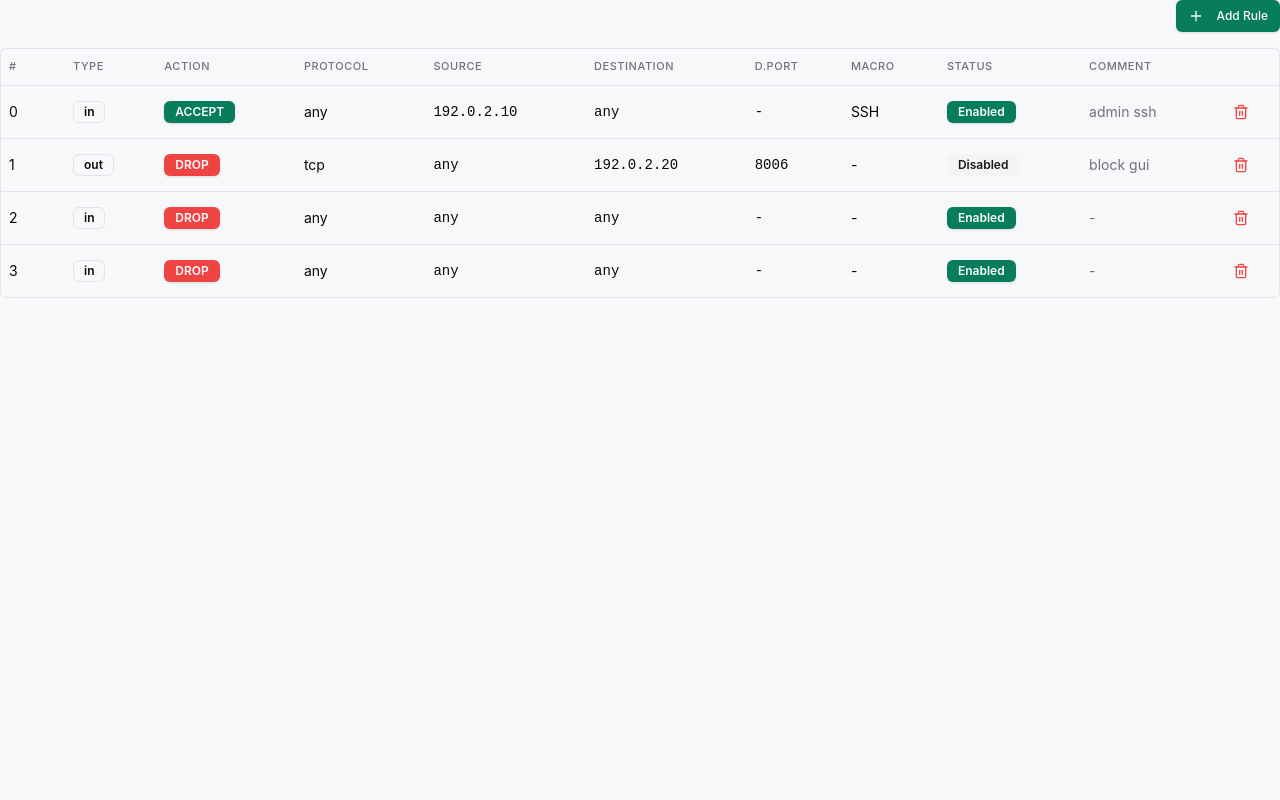
Test: FirewallRulesTable — deleting a rule › Cancel sends nothing
The width and height of the screenshot is (1280, 800).
Click the button named "Delete rule 1" at {"x": 1241, "y": 164}, box [1223,146,1259,182]
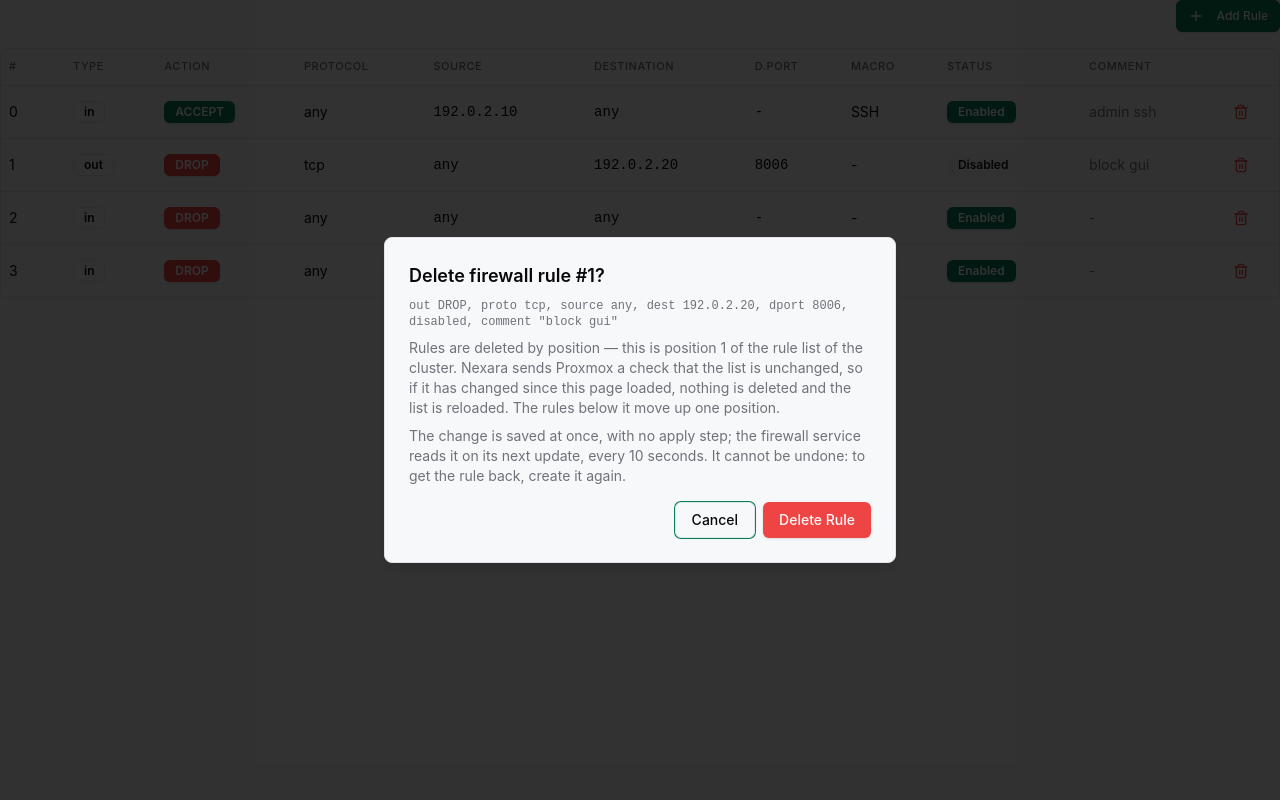
Click the button "Cancel" at {"x": 715, "y": 520}, box [675,502,755,538]
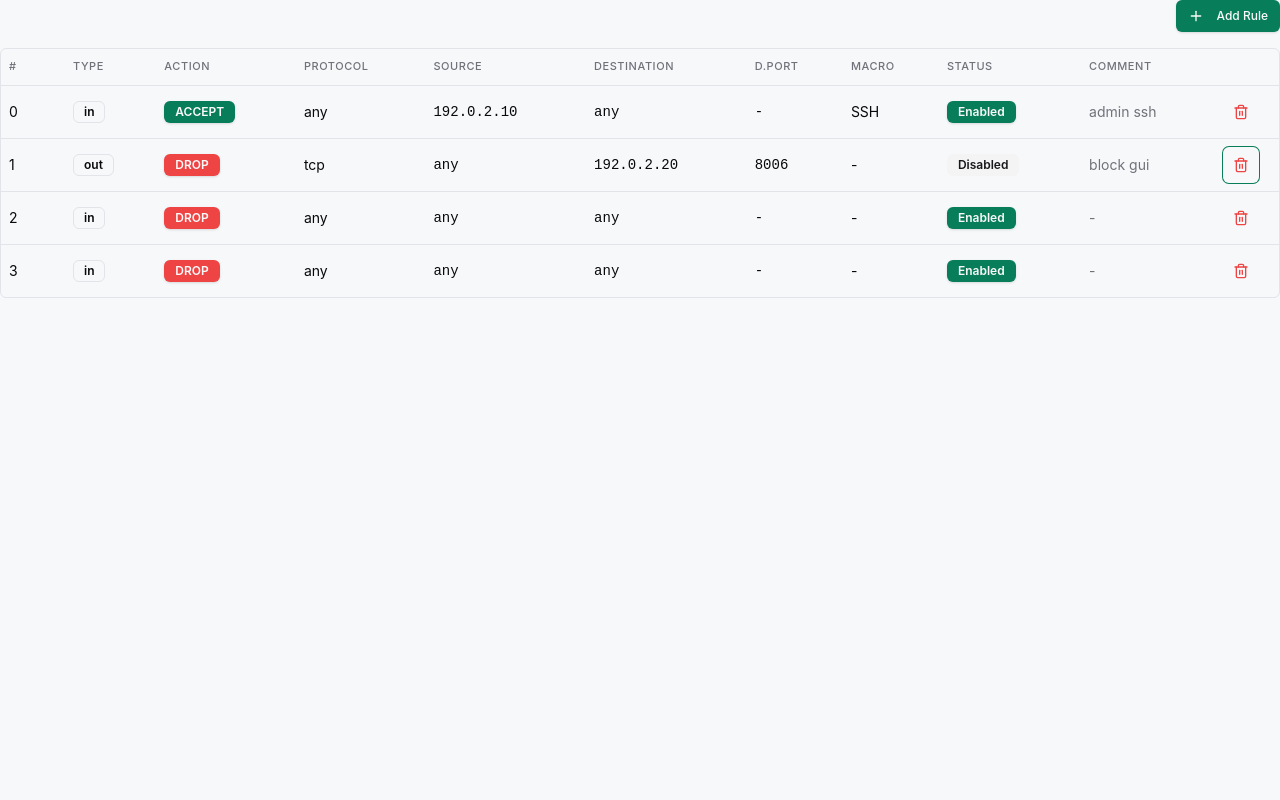
Expected: the dialog is gone
